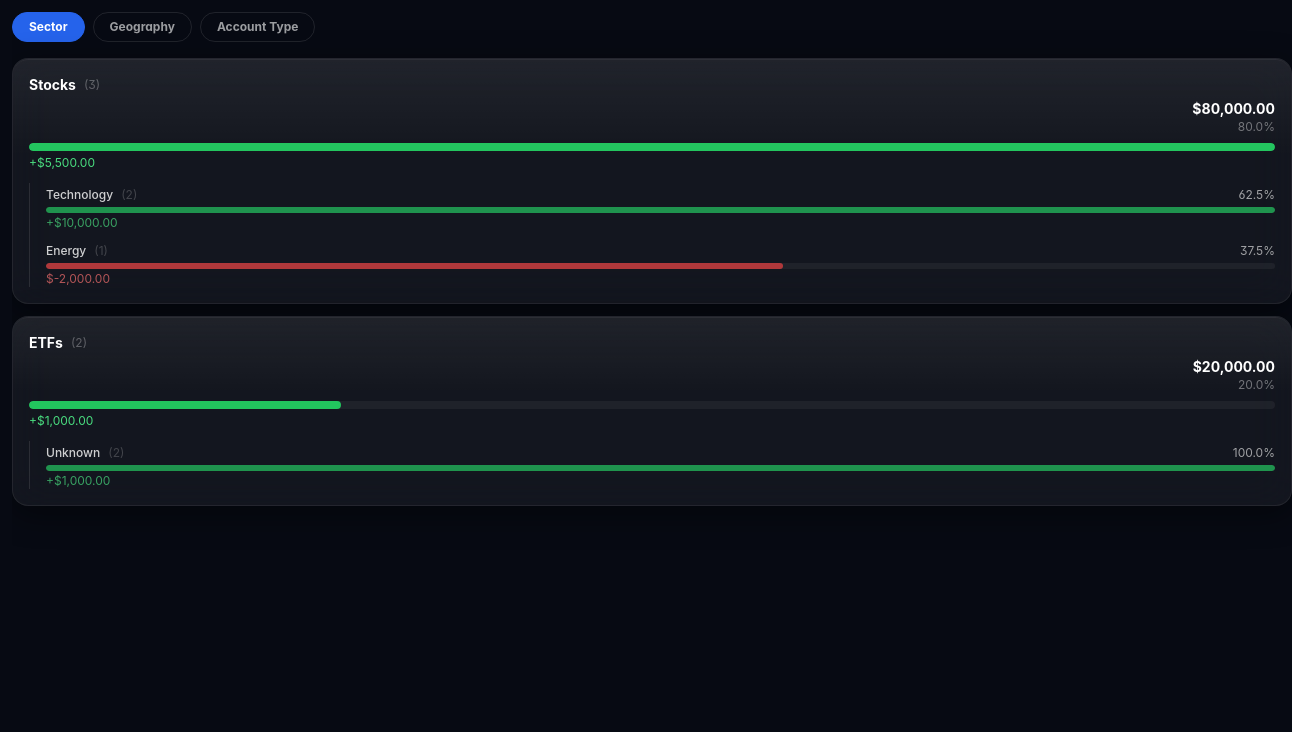
Test case: AllocationTab › switches group-by on button click
Click the button "Geography" at (142,27), box [93, 12, 192, 42]
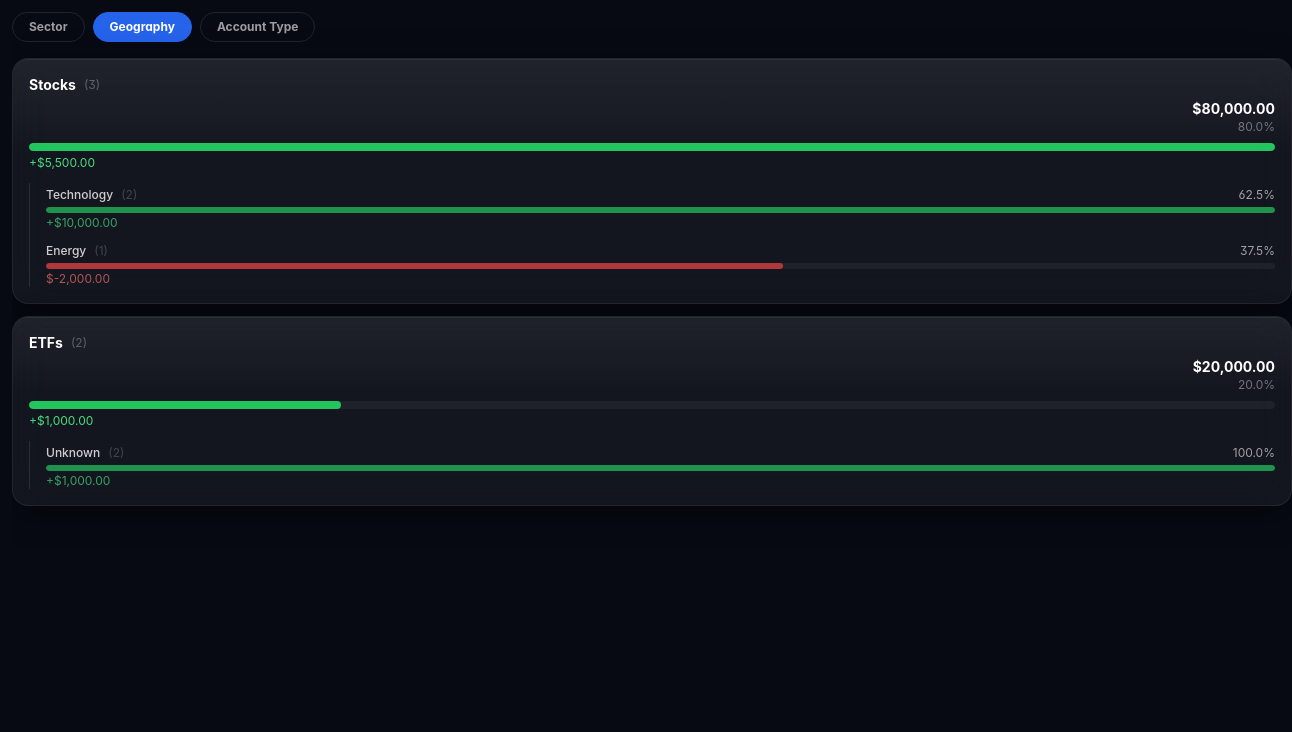
Result: the button "Geography" has class "bg-blue-600" at [93, 12, 192, 42]
